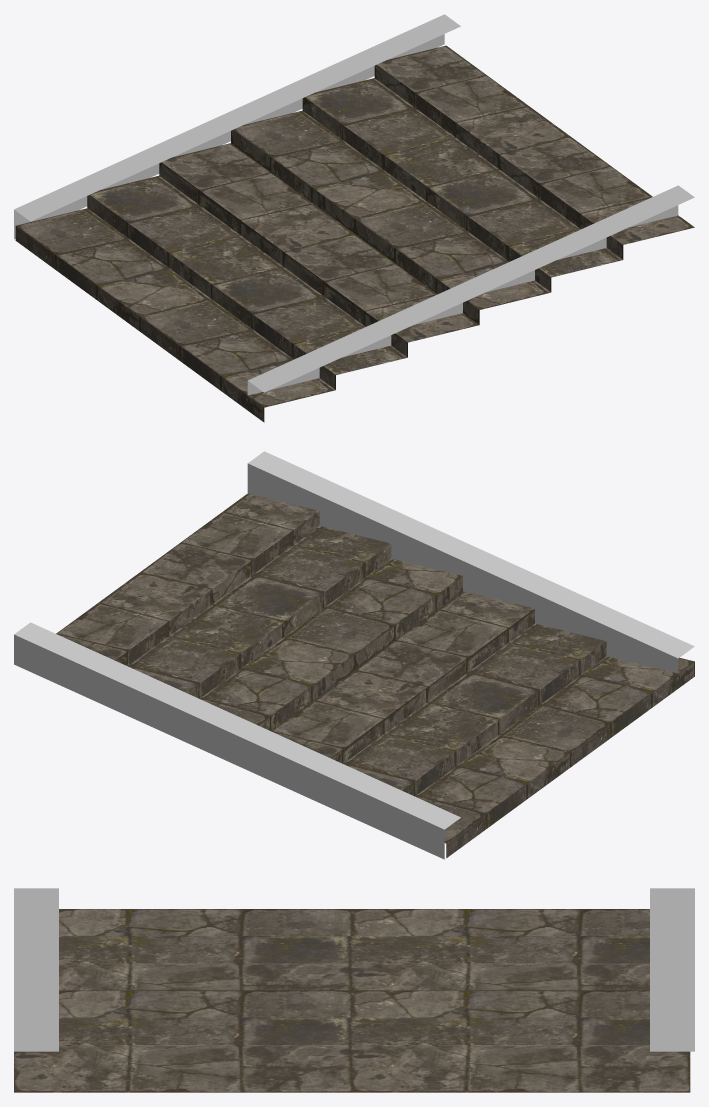
Rendered from StairsLeft.FBX.
3 renders of one model, top to bottom at view 1: azimuth 30°, elevation 25°; view 2: azimuth 150°, elevation 25°; view 3: azimuth 270°, elevation 25°, orthographic. The views are drawn at different scales.
Parts seen in each view (by area): view 1: StairsLeft; view 2: StairsLeft; view 3: StairsLeft.
Part boxes in pixels (bbox=[...]): StairsLeft: bbox=[14, 14, 694, 422]; StairsLeft: bbox=[14, 451, 694, 859]; StairsLeft: bbox=[14, 888, 694, 1092].
Bounding box in the file's own units: 750 × 200 × 755.
